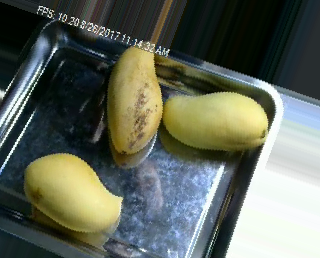Mango: (19, 148, 125, 234), (106, 34, 166, 152), (162, 88, 268, 152)
